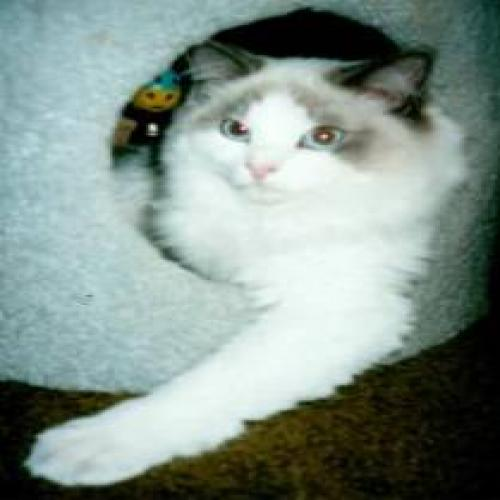ragdoll: (156, 40, 455, 220)
